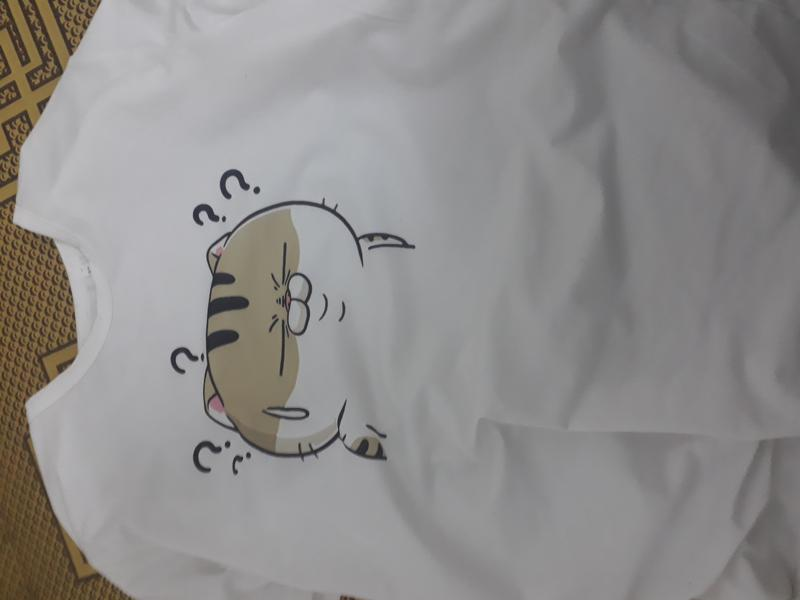fat cat: (167, 167, 421, 482)
